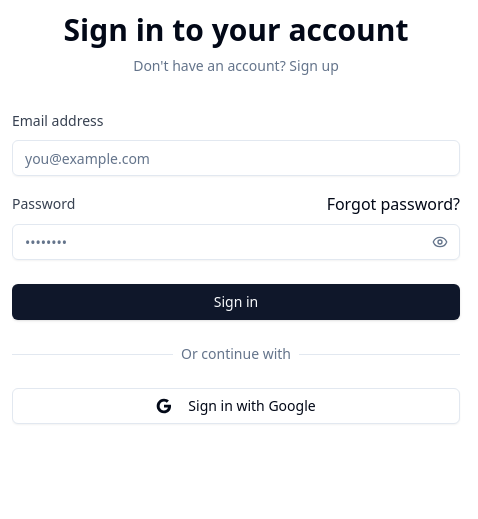
LoginForm › Accessibility › should have no accessibility violations with error state
Type "test@example.com" into the field labelled "Email address" at (236, 158), box [12,140,460,176]
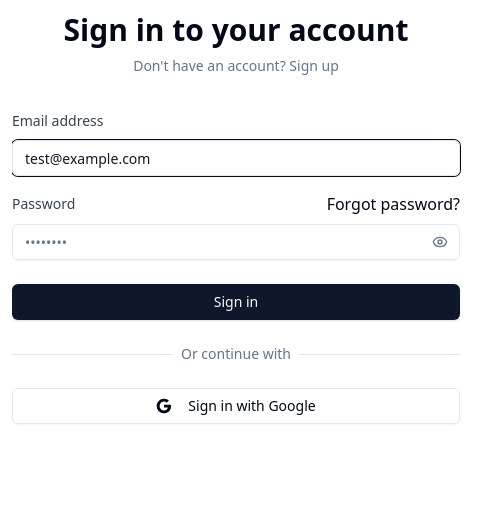
Type "wrong" into the password field labelled "Password" at (236, 242), box [12,224,460,260]
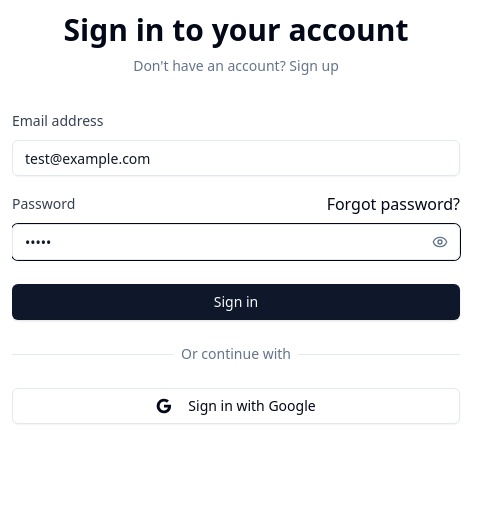
Click the button "Sign in" at (236, 302), box [12,284,460,320]
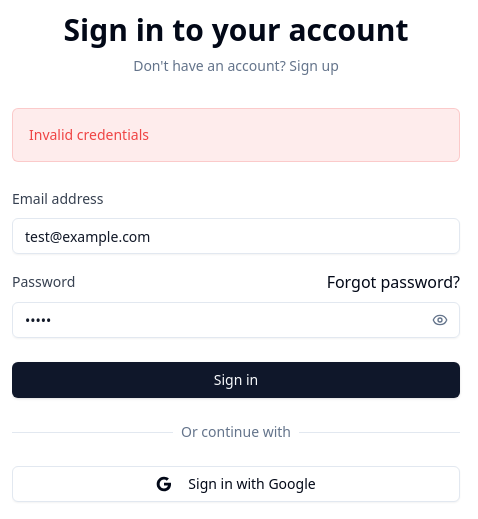
Check: the text "Invalid credentials" is shown, box [29,125,149,144]
